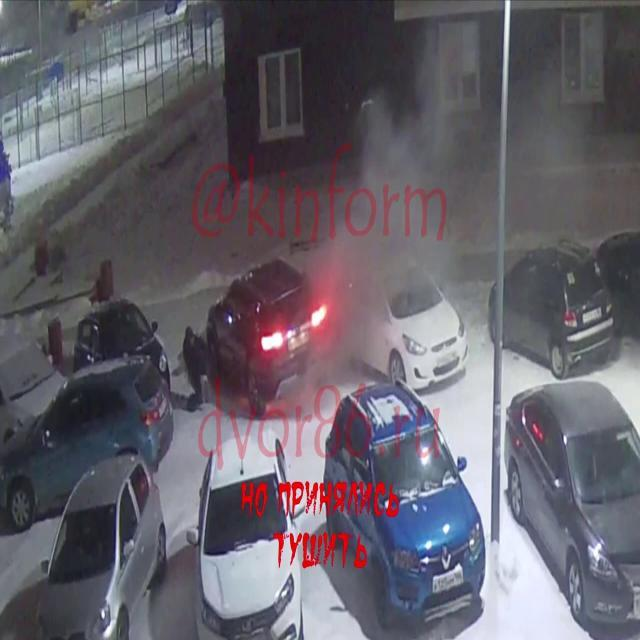Smoke: (318, 9, 478, 362)
